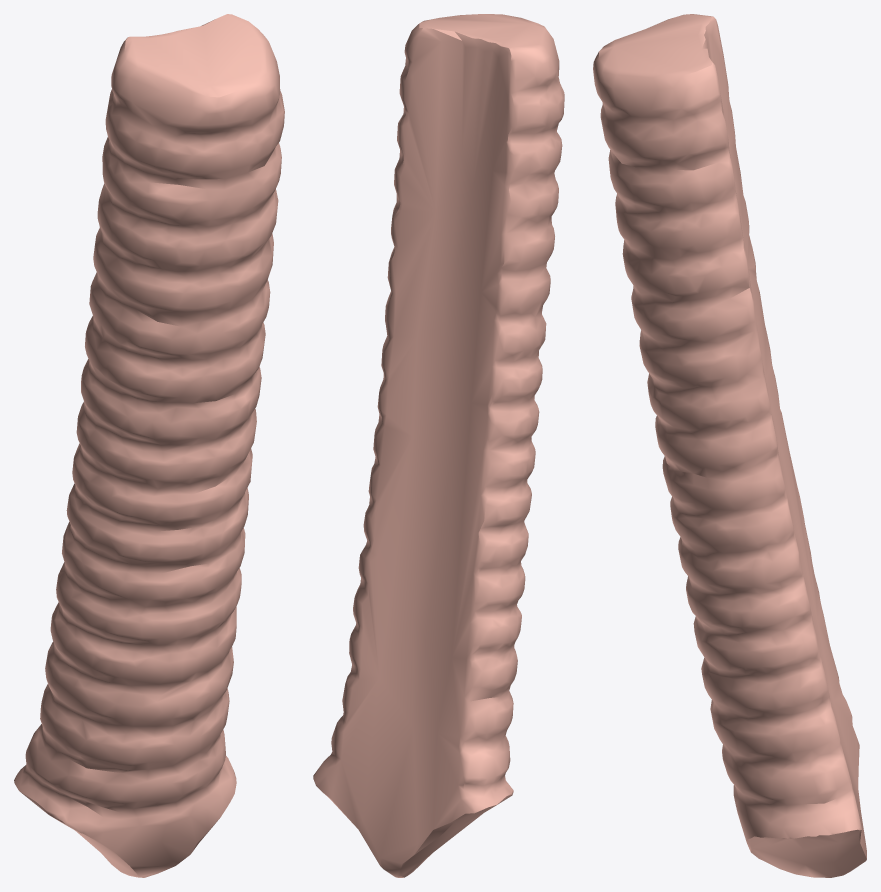
Rendered from trachea.glb.
3 renders of one model, left to right at view 1: azimuth 30°, elevation 25°; view 2: azimuth 150°, elevation 25°; view 3: azimuth 270°, elevation 25°, orthographic. The views are drawn at different scales.
Parts seen in each view (by area): view 1: FJ2541; view 2: FJ2541; view 3: FJ2541.
Part boxes in pixels (x1,y1,x2,y2): FJ2541: [14, 14, 284, 877]; FJ2541: [313, 14, 564, 877]; FJ2541: [593, 14, 866, 877].
Bounding box in the file's own units: 0.0778 × 0.331 × 0.0983.
